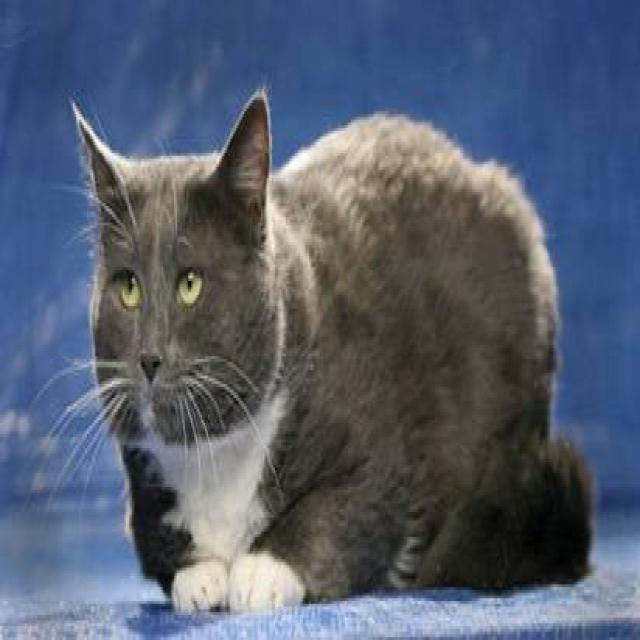cat: (31, 84, 597, 612)
